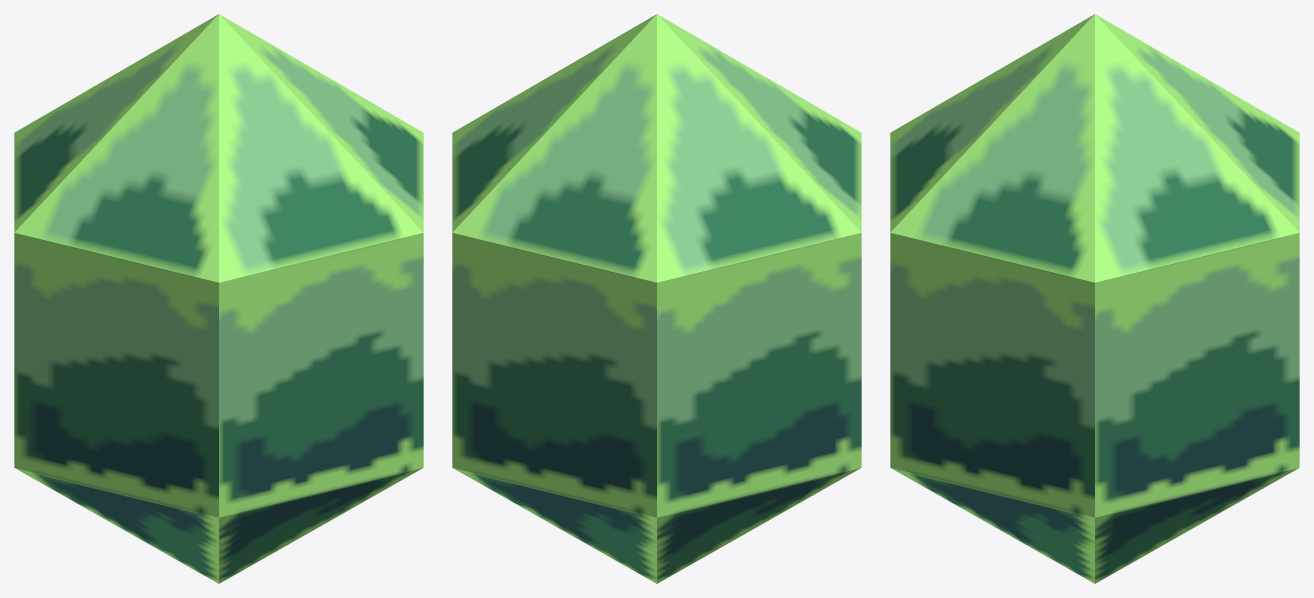
File: exp_gem.gltf
The picture shows the model from 3 angles, left to right: view 1: azimuth 30°, elevation 25°; view 2: azimuth 150°, elevation 25°; view 3: azimuth 270°, elevation 25°; orthographic projection.
Parts seen in each view (by area): view 1: Exp_Gem; view 2: Exp_Gem; view 3: Exp_Gem.
Boxes of the visible parts, <box> form: Exp_Gem: <box>14,14,423,583</box>; Exp_Gem: <box>452,14,861,583</box>; Exp_Gem: <box>890,14,1299,583</box>.
Bounding box in the file's own units: 0.2 × 0.266 × 0.1732.
1 material, 1 textured.
